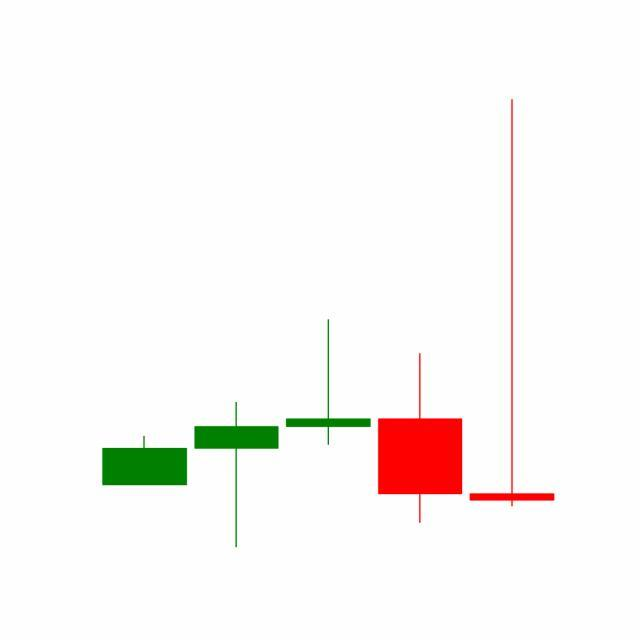Gravestone Doji: (466, 95, 559, 512)
